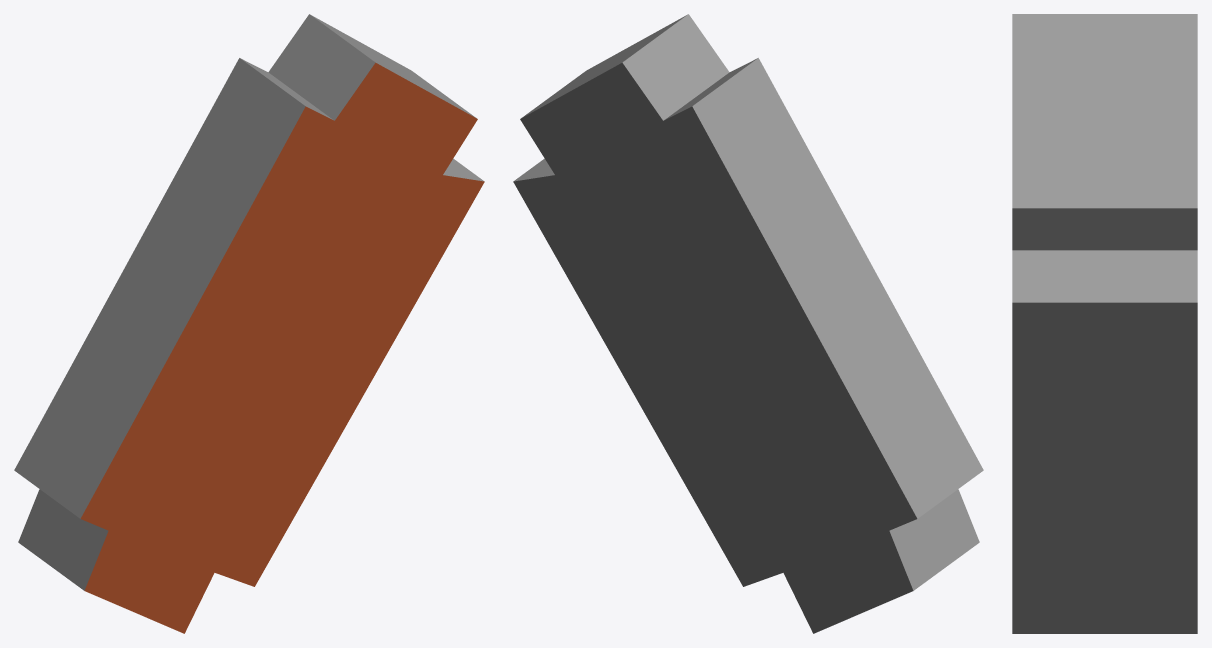
The model's file is construction_5425_assumed_A_Casa_h6m.obj.
3 renders of one model, left to right at view 1: azimuth 30°, elevation 25°; view 2: azimuth 150°, elevation 25°; view 3: azimuth 270°, elevation 25°, orthographic. The views are drawn at different scales.
Parts seen in each view (by area): view 1: construction_5425_assumed_A_Casa; view 2: construction_5425_assumed_A_Casa; view 3: construction_5425_assumed_A_Casa.
Part boxes in pixels (x1,y1,x2,y2): construction_5425_assumed_A_Casa: [14, 14, 484, 633]; construction_5425_assumed_A_Casa: [513, 14, 983, 633]; construction_5425_assumed_A_Casa: [1012, 14, 1197, 633].
Size of the model in its own units: 21.11 by 26.18 by 6.
